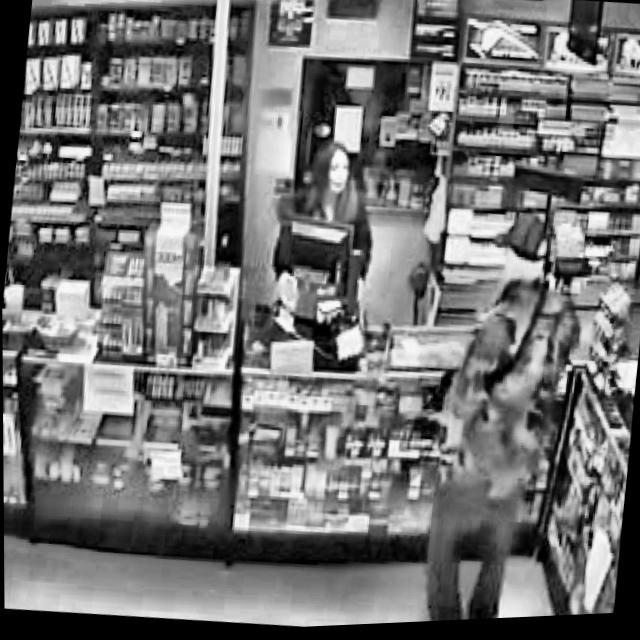robbery: (374, 201, 596, 627)
